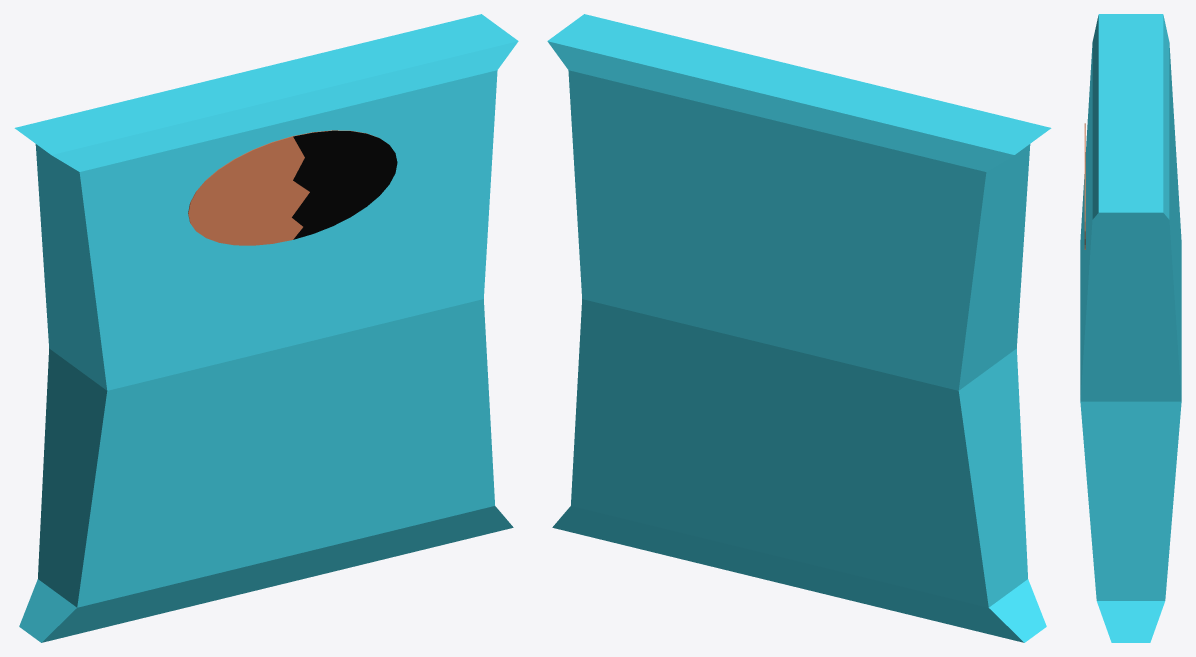
Rendered from FrozenFries.fbx.
The picture shows the model from 3 angles, left to right: view 1: azimuth 30°, elevation 25°; view 2: azimuth 150°, elevation 25°; view 3: azimuth 270°, elevation 25°; orthographic projection. The views are drawn at different scales.
Parts seen in each view (by area): view 1: Cube, Logo; view 2: Cube; view 3: Cube, Logo.
Part boxes in pixels (x1,y1,x2,y2): Cube: (14,14,518,642); Logo: (188,130,397,245); Cube: (547,14,1051,642); Cube: (1080,14,1181,642); Logo: (1084,123,1085,249).
Size of the model in its own units: 82.29 by 81.97 by 17.52.
